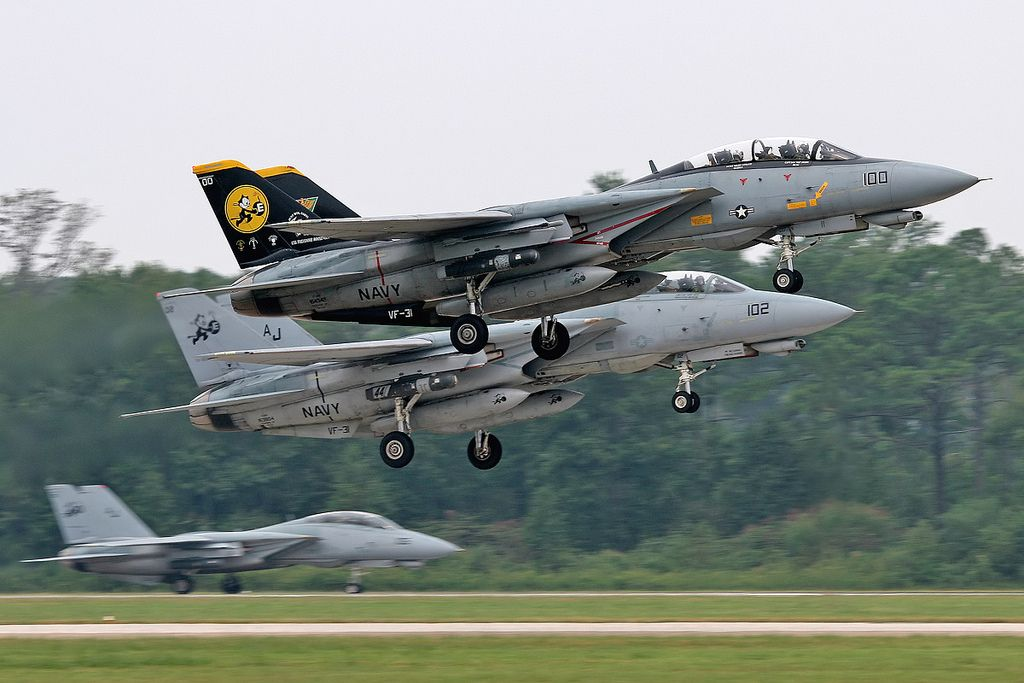F14: (162, 136, 993, 361), (118, 270, 866, 470), (16, 482, 465, 594)
